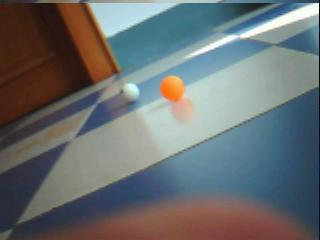oball: (161, 77, 184, 101)
